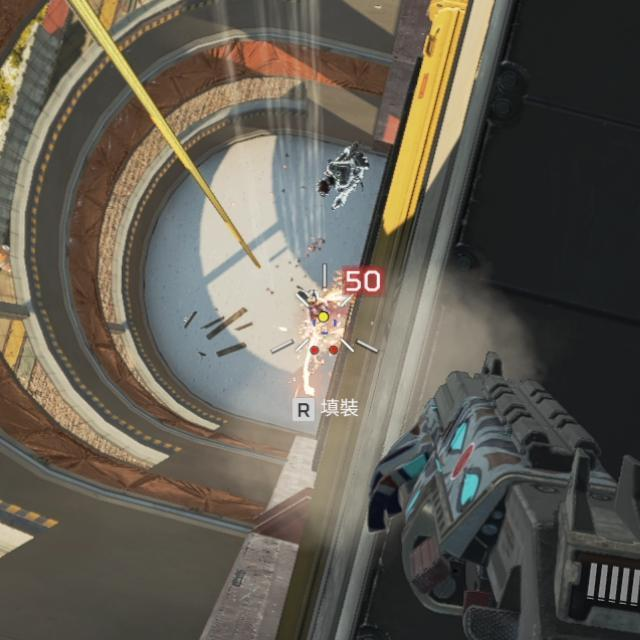avatar: (315, 142, 370, 213)
